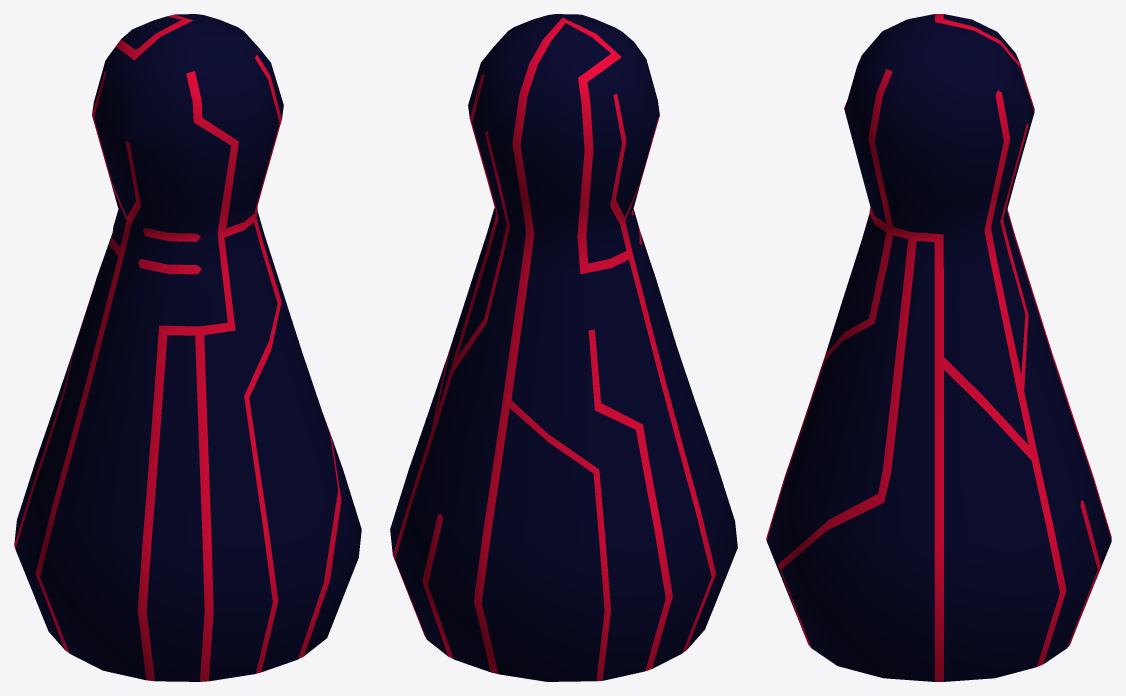
The model's file is chippink.obj.
The picture shows the model from 3 angles, left to right: view 1: azimuth 30°, elevation 25°; view 2: azimuth 150°, elevation 25°; view 3: azimuth 270°, elevation 25°; orthographic projection.
Visible parts, largest first — view 1: Куб.038_Куб.039; view 2: Куб.038_Куб.039; view 3: Куб.038_Куб.039.
Boxes of the visible parts, x1=… form: Куб.038_Куб.039: x1=14, y1=14, x2=361, y2=681; Куб.038_Куб.039: x1=390, y1=14, x2=737, y2=681; Куб.038_Куб.039: x1=766, y1=14, x2=1111, y2=681.
Size of the model in its own units: 0.2365 by 0.4544 by 0.2361.
